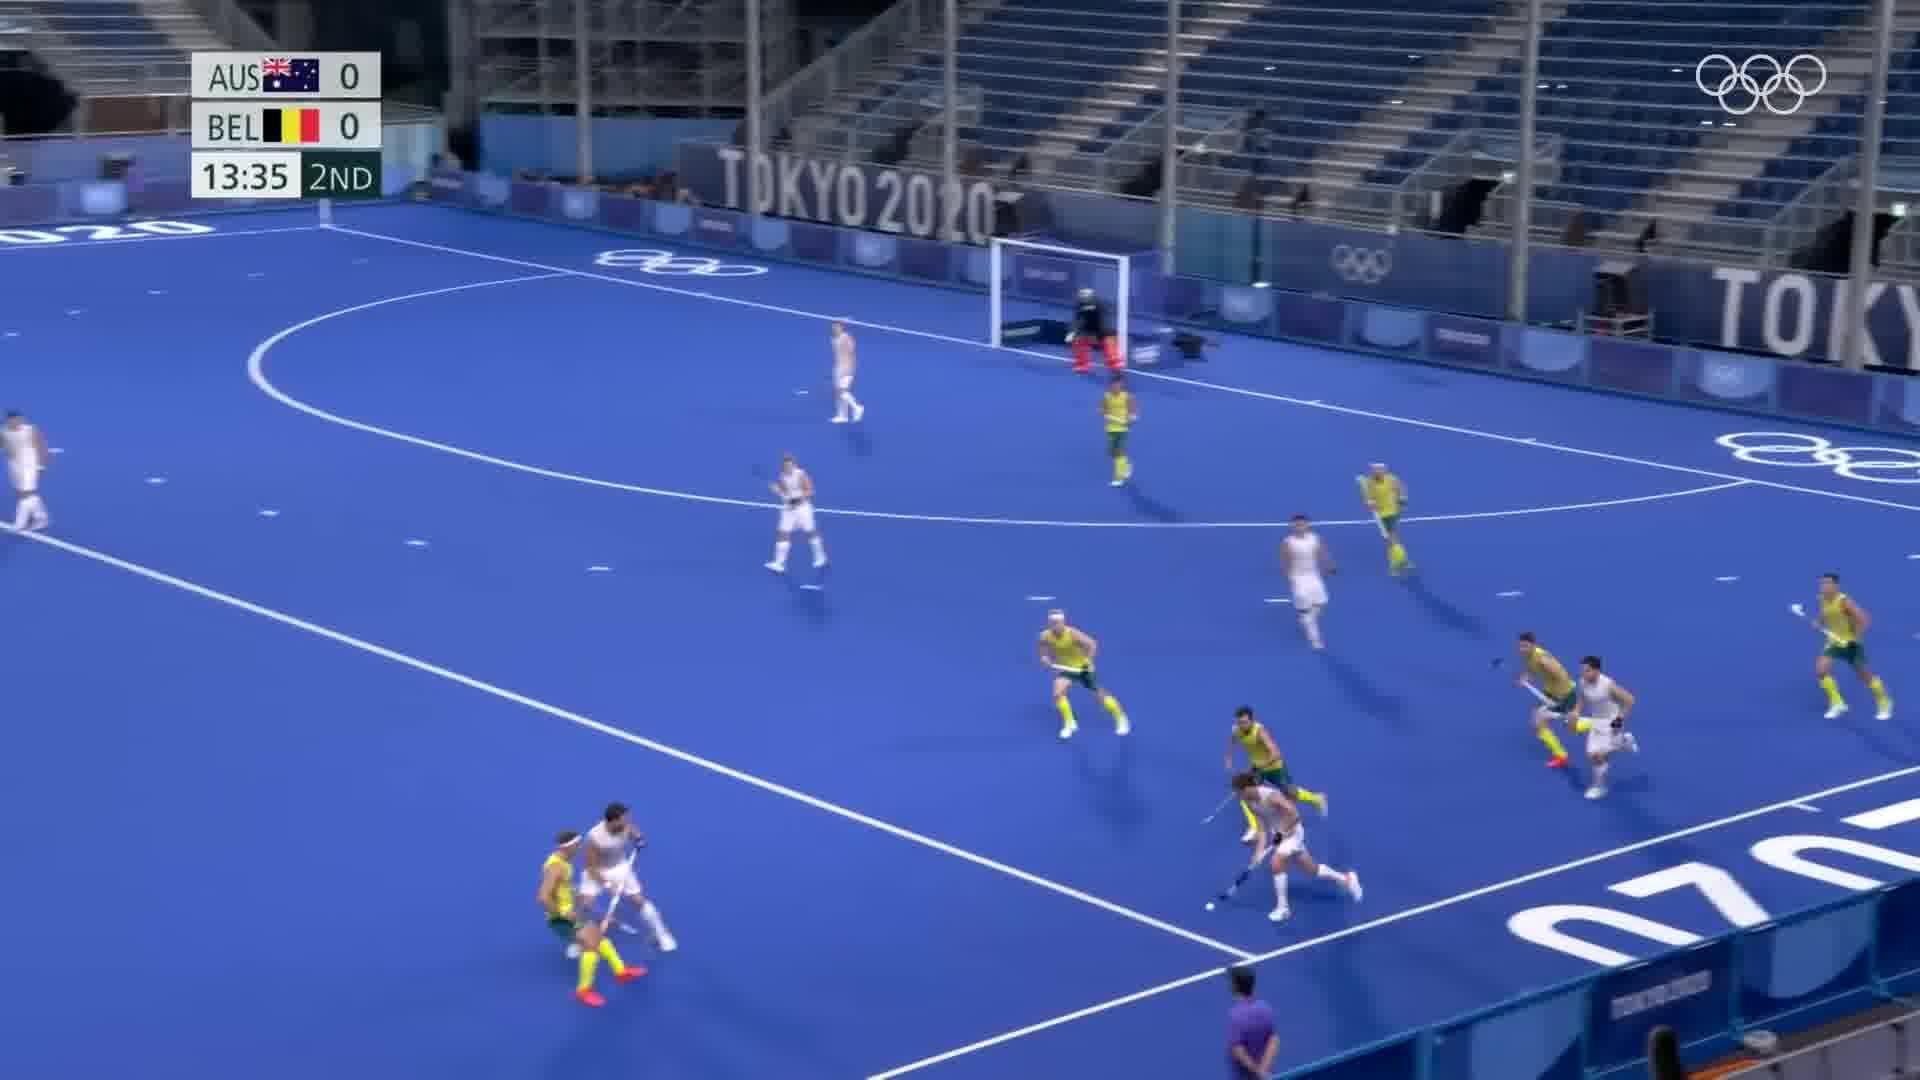ball: (1200, 897, 1220, 923)
